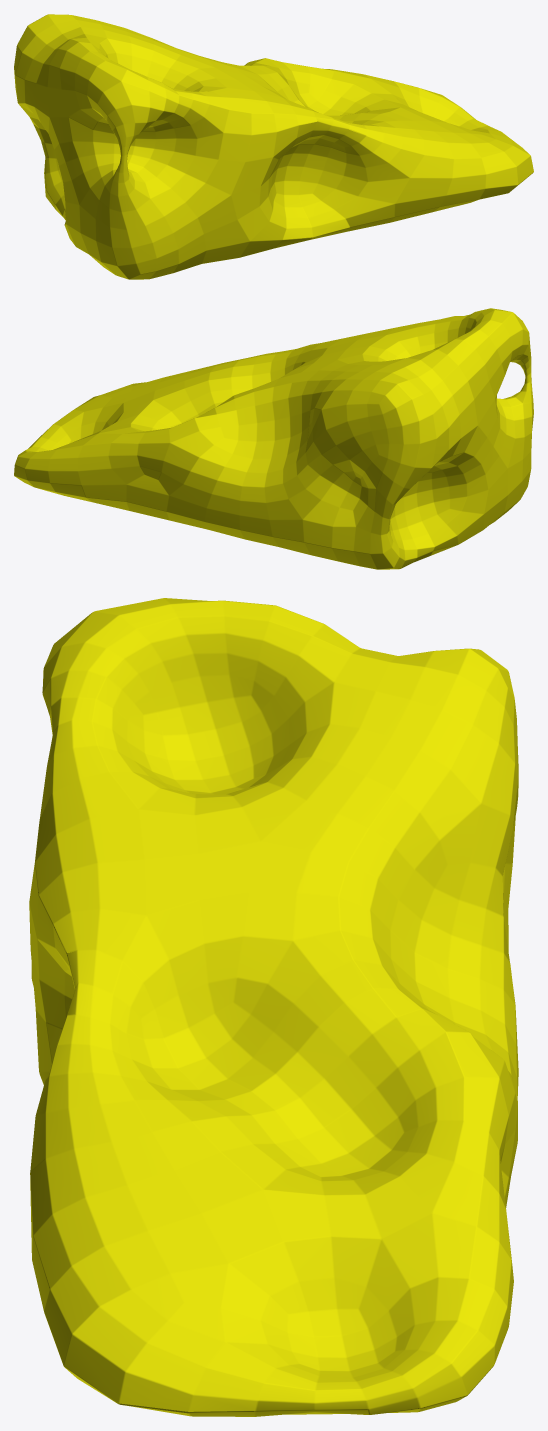
Rendered from Cheese_Model.fbx.
The picture shows the model from 3 angles, top to bottom: view 1: azimuth 30°, elevation 25°; view 2: azimuth 150°, elevation 25°; view 3: azimuth 270°, elevation 25°; orthographic projection. The views are drawn at different scales.
Visible parts, largest first — view 1: polySurface1; view 2: polySurface1; view 3: polySurface1.
Boxes of the visible parts, bbox=[...] form: polySurface1: bbox=[14, 14, 533, 279]; polySurface1: bbox=[14, 308, 533, 569]; polySurface1: bbox=[29, 598, 518, 1416].
Bounding box in the file's own units: 14.93 × 6.75 × 7.18.
